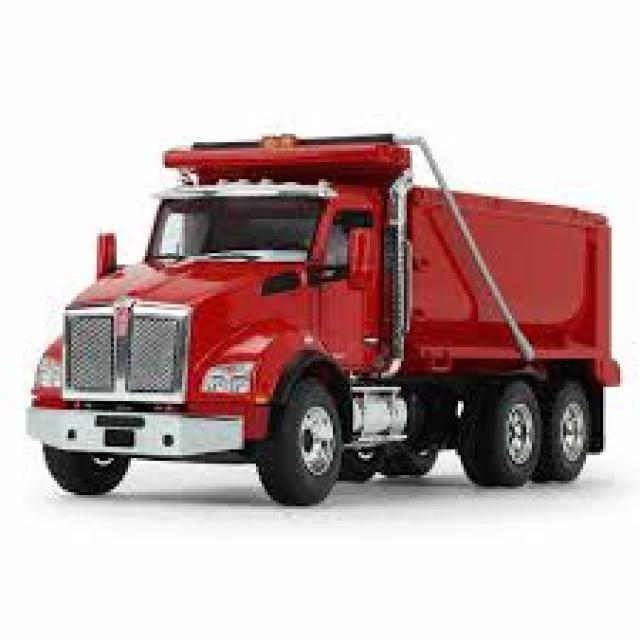dump_truck: (27, 130, 620, 506)
